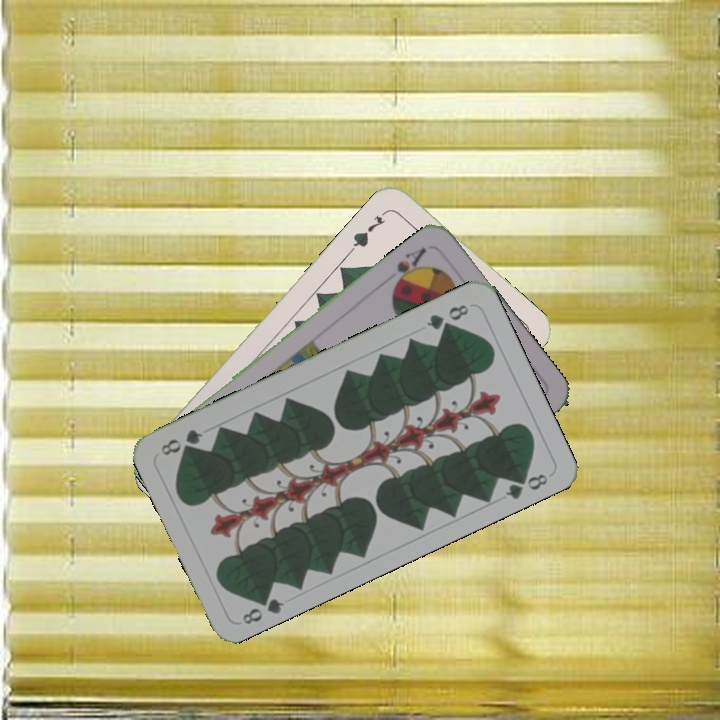G7: (347, 206, 391, 254)
G8: (238, 589, 287, 628), (422, 300, 472, 333)
SA: (389, 243, 429, 291)
